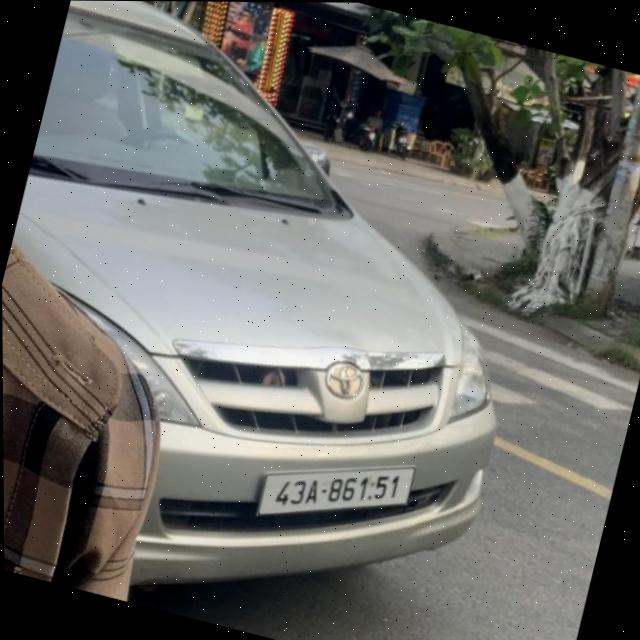car: (0, 0, 585, 640)
plate: (248, 431, 421, 555)
